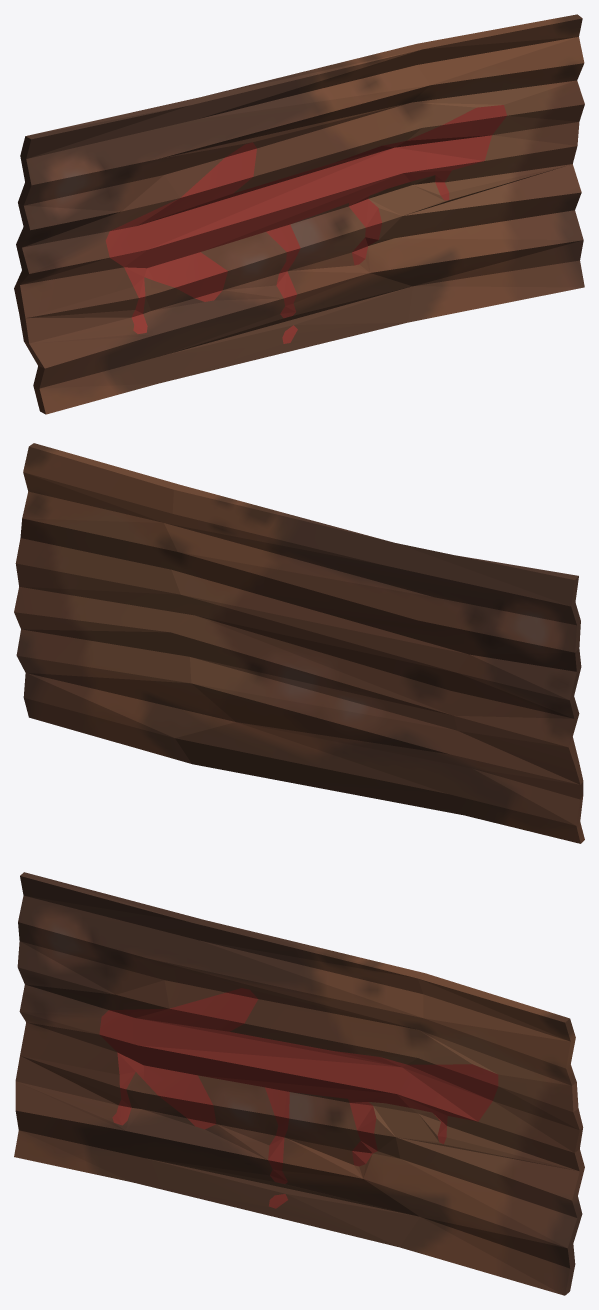
The model's file is SM_Prop_Sign_Directional_Arrow_01.obj.
The picture shows the model from 3 angles, top to bottom: view 1: azimuth 30°, elevation 25°; view 2: azimuth 150°, elevation 25°; view 3: azimuth 330°, elevation 25°; orthographic projection.
Visible parts, largest first — view 1: SM_Prop_Sign_Directional_Arrow_01_0; view 2: SM_Prop_Sign_Directional_Arrow_01_0; view 3: SM_Prop_Sign_Directional_Arrow_01_0.
Boxes of the visible parts, bbox=[...] form: SM_Prop_Sign_Directional_Arrow_01_0: bbox=[14, 14, 584, 414]; SM_Prop_Sign_Directional_Arrow_01_0: bbox=[14, 443, 584, 843]; SM_Prop_Sign_Directional_Arrow_01_0: bbox=[14, 872, 584, 1295].
Size of the model in its own units: 2.04 by 0.9669 by 0.1532.
Materials: 1 (1 with a texture image).
